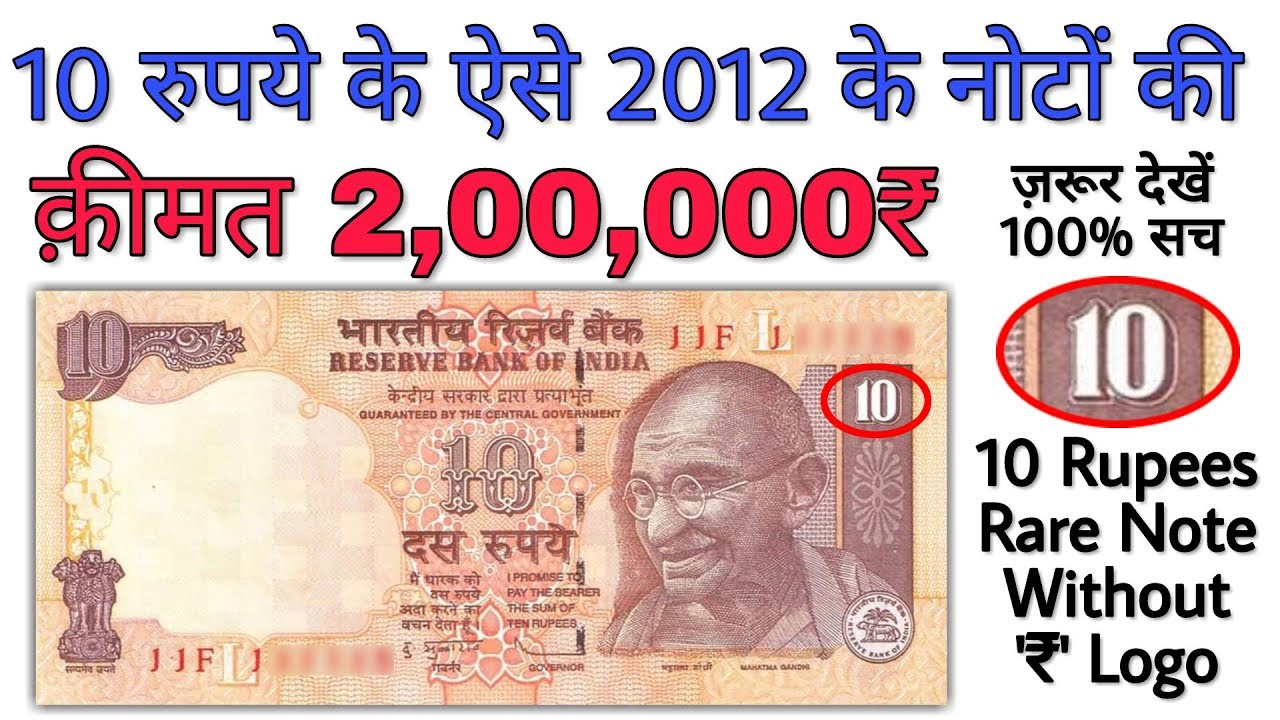ten_rupees_note: (34, 286, 954, 709)
